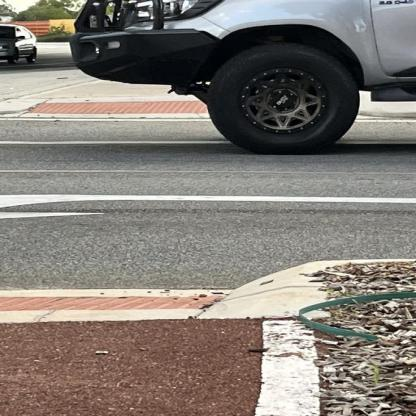Tire: (207, 43, 360, 154)
